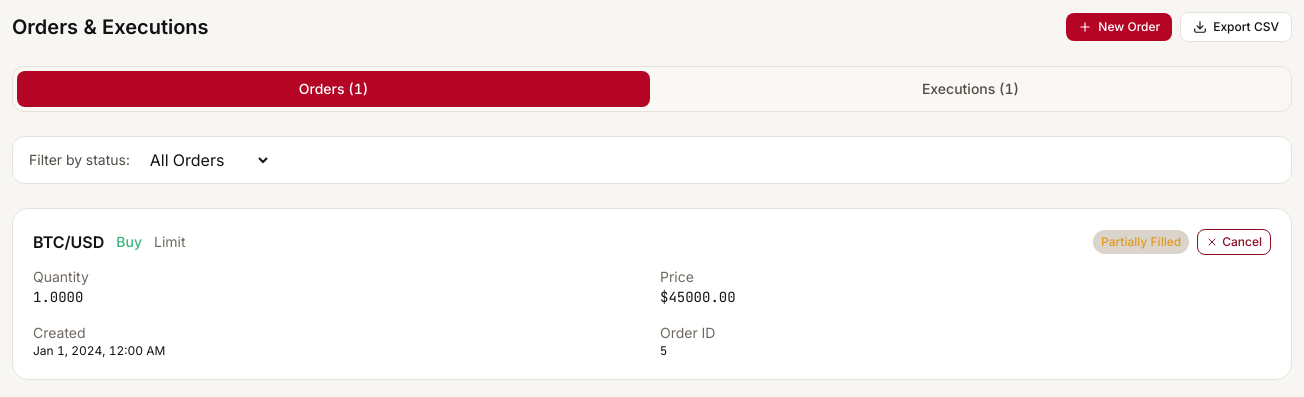
Test: Orders › switches to executions tab and displays execution card
Click the button "Executions (1)": (970, 89) [654,71,1287,107]
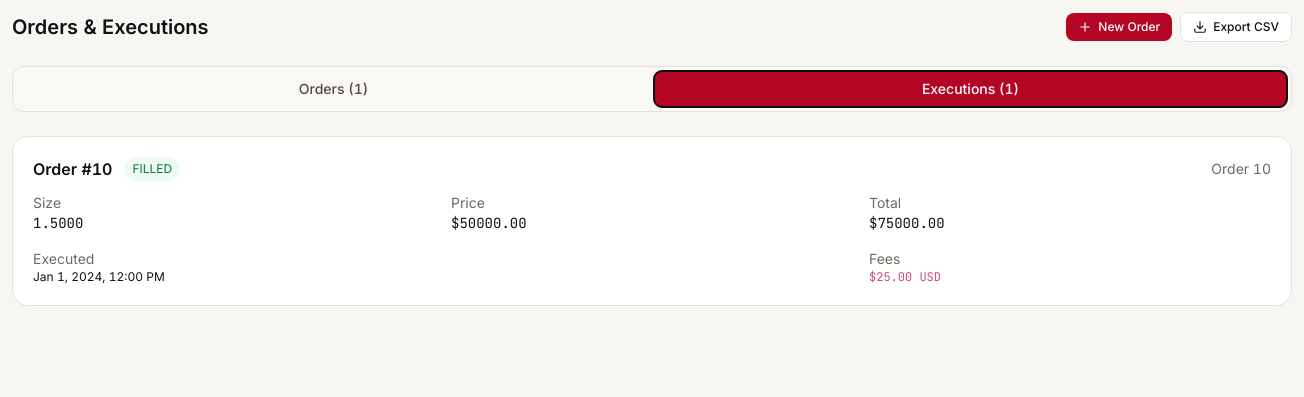
Now the text "Order #10" is shown, box [33,157,112,181]
Now the text "$50000.00" is shown, box [451,214,527,232]
Now the text "$75000.00" is shown, box [869,214,945,232]
